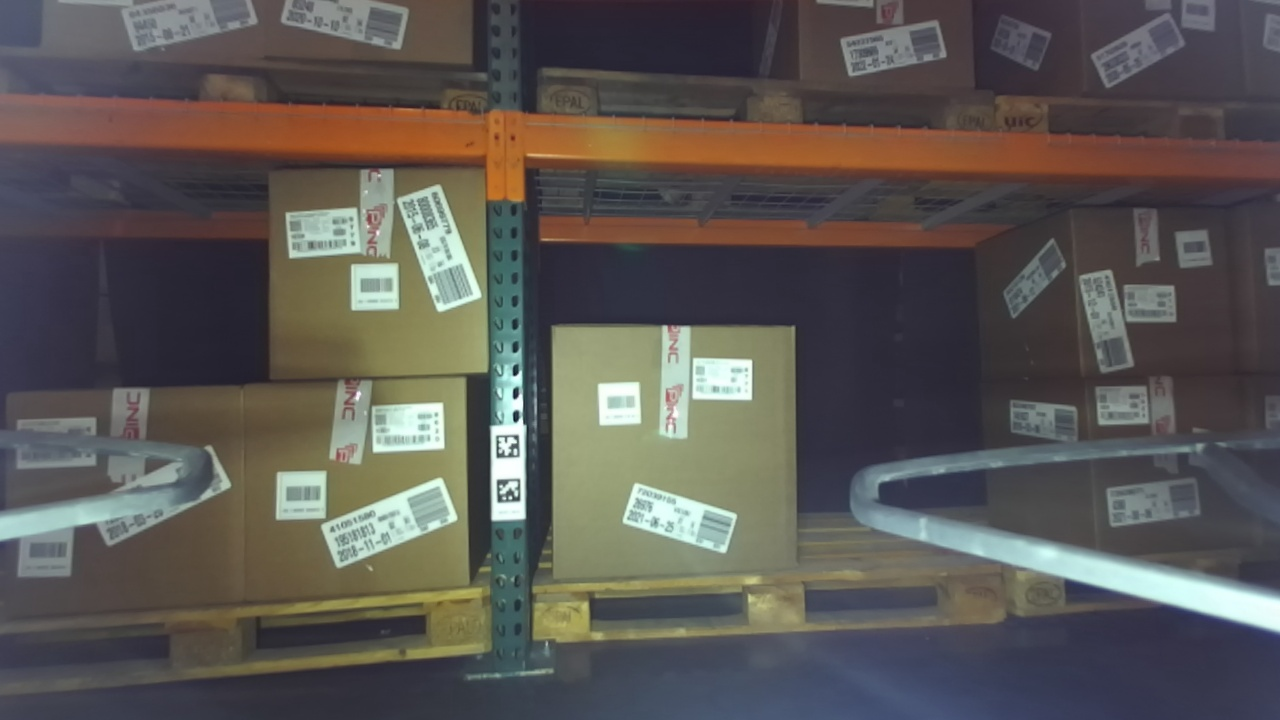box: (520, 299, 833, 600), (215, 354, 492, 607), (3, 360, 267, 625), (229, 156, 515, 390), (1043, 350, 1270, 596), (1036, 188, 1261, 398)
